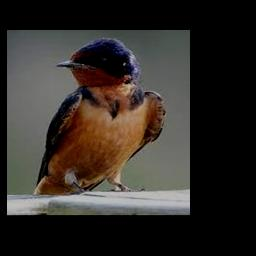Swallow: (34, 36, 167, 195)
